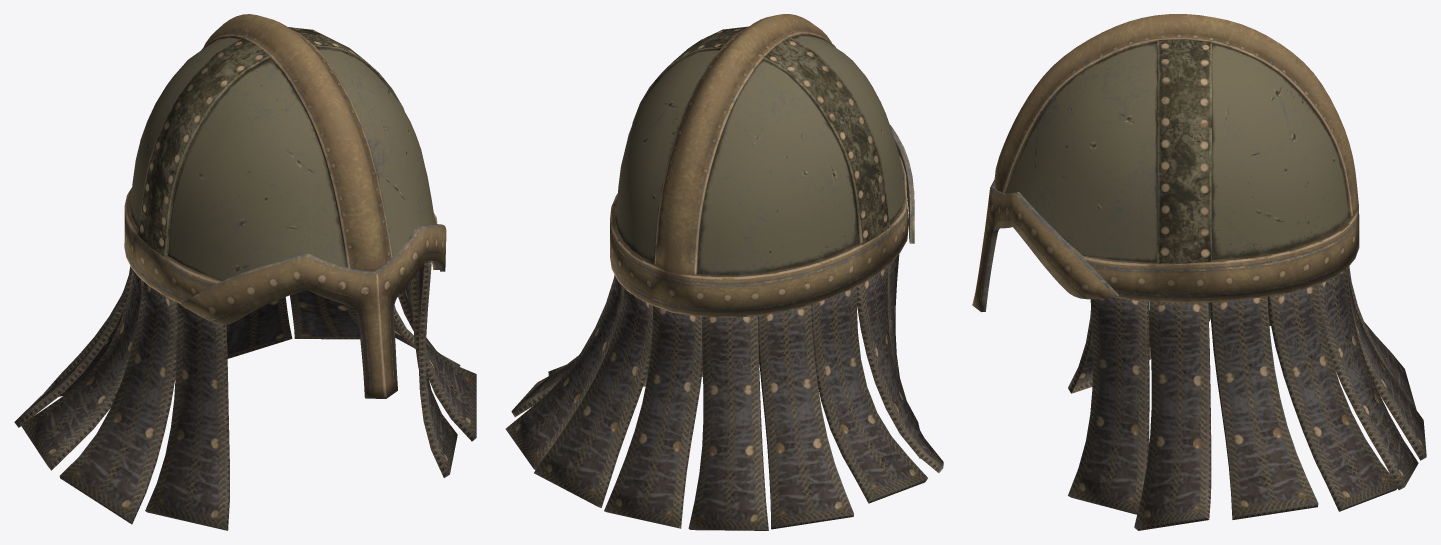
The model's file is dunland_wulf_helmet_heavy_c.fbx.
The picture shows the model from 3 angles, left to right: view 1: azimuth 30°, elevation 25°; view 2: azimuth 150°, elevation 25°; view 3: azimuth 270°, elevation 25°; orthographic projection. The views are drawn at different scales.
Visible parts, largest first — view 1: dunland_wulf_helmet_heavy_c; view 2: dunland_wulf_helmet_heavy_c; view 3: dunland_wulf_helmet_heavy_c.
Boxes of the visible parts, box(x1,y1,x2,y2) form: dunland_wulf_helmet_heavy_c: box(14, 14, 476, 530); dunland_wulf_helmet_heavy_c: box(505, 14, 943, 530); dunland_wulf_helmet_heavy_c: box(972, 14, 1426, 530).
Size of the model in its own units: 0.3247 by 0.3109 by 0.3284.
1 material, 1 textured.
